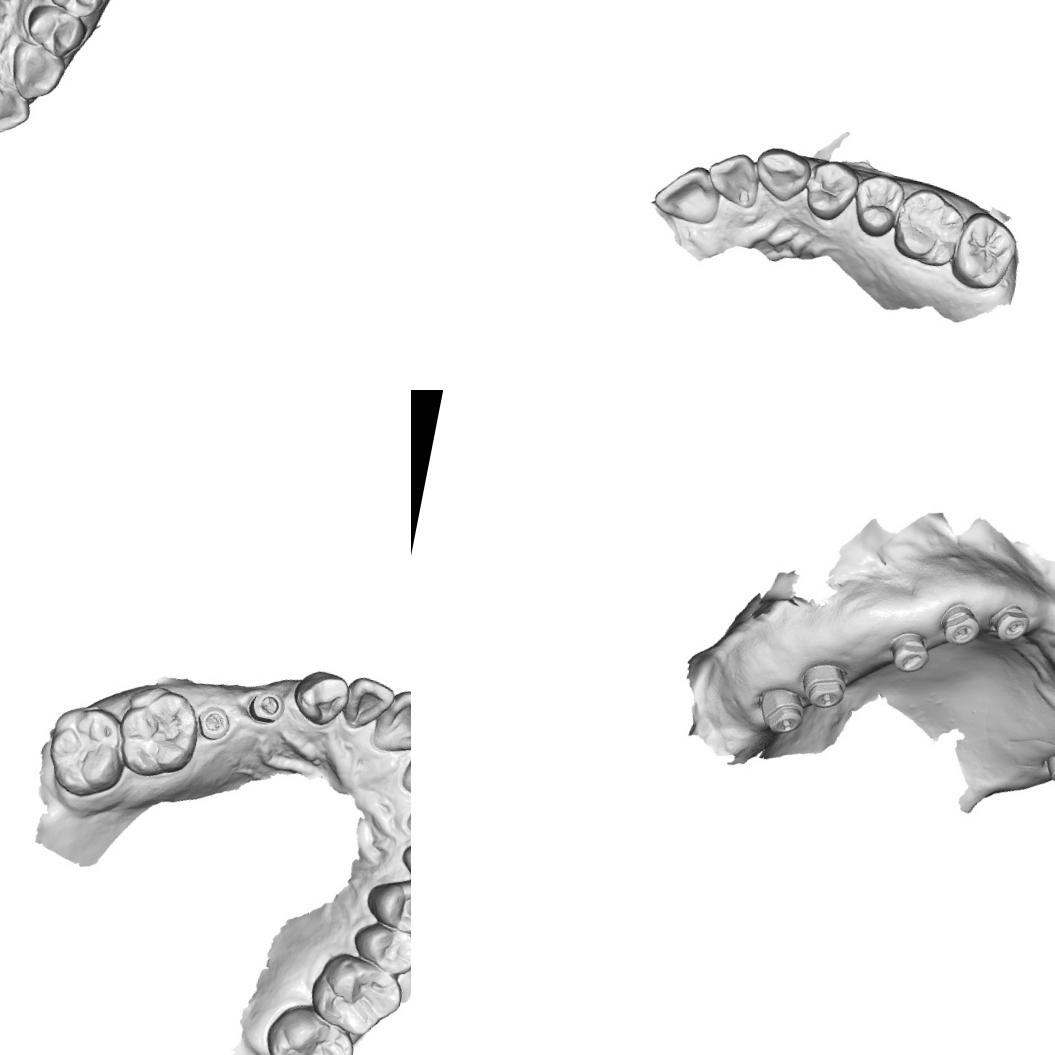canine: (3, 36, 70, 106), (289, 659, 352, 731), (748, 142, 816, 207), (394, 829, 411, 892)
implant: (758, 687, 807, 737), (800, 661, 848, 712), (252, 686, 287, 726), (200, 704, 232, 742), (1045, 748, 1055, 791)
implant_minus: (941, 600, 980, 650), (990, 599, 1034, 643), (888, 630, 930, 674)
incisor: (648, 158, 726, 228), (700, 145, 766, 210), (337, 672, 398, 736), (370, 685, 411, 758), (0, 76, 35, 142)
molar: (305, 946, 404, 1046), (38, 699, 130, 803), (114, 686, 202, 782), (886, 182, 969, 270), (946, 206, 1024, 296), (259, 998, 355, 1055)
premolar: (798, 154, 863, 225), (19, 0, 90, 63), (846, 168, 907, 241), (359, 869, 411, 937), (350, 919, 411, 975), (38, 0, 110, 23)
